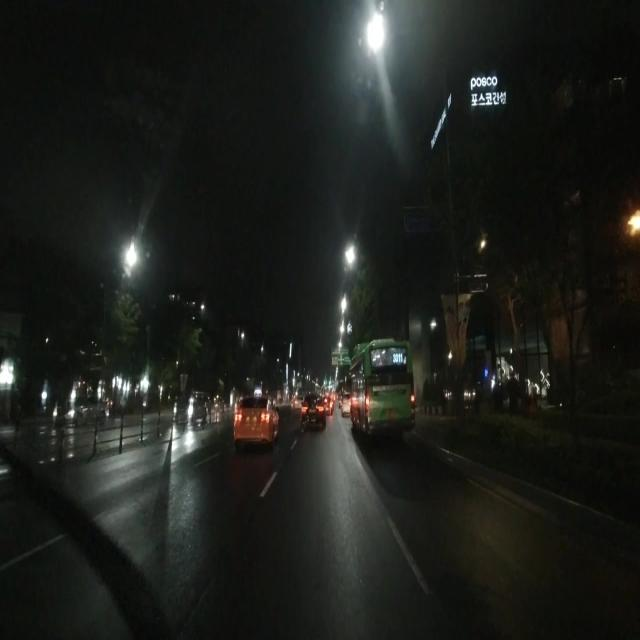Car: (232, 401, 274, 444), (299, 393, 324, 423)
